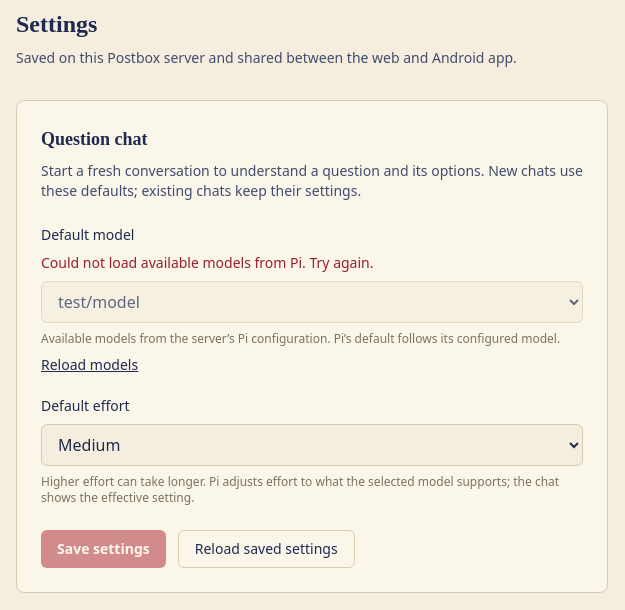
Scenario: does not label a model legacy when the catalog fails, and supports retry
expect the text "Could not load available models from Pi. Try again." is shown: met, box [41,253,374,272]
expect the dropdown labelled "Default model" is disabled: met, box [41,281,583,323]
Click the button "Reload models".
click(90, 365)  # box [41,355,138,375]
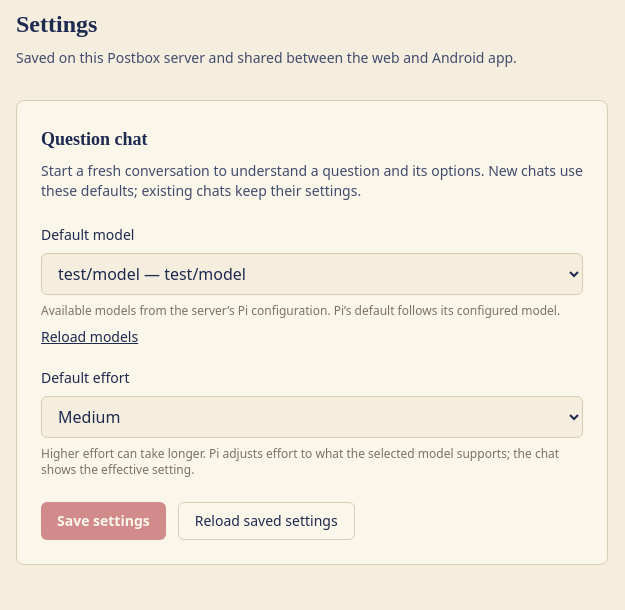
expect the dropdown labelled "Default model" is enabled: met, box [41,253,583,295]
expect the dropdown labelled "Default model" shows "test/model — test/model": met, box [41,253,583,295]
